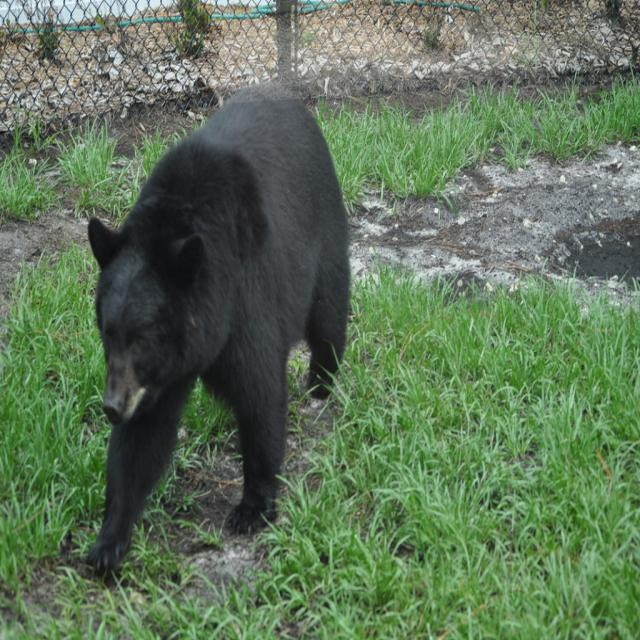Buffalo: (83, 80, 352, 584)
